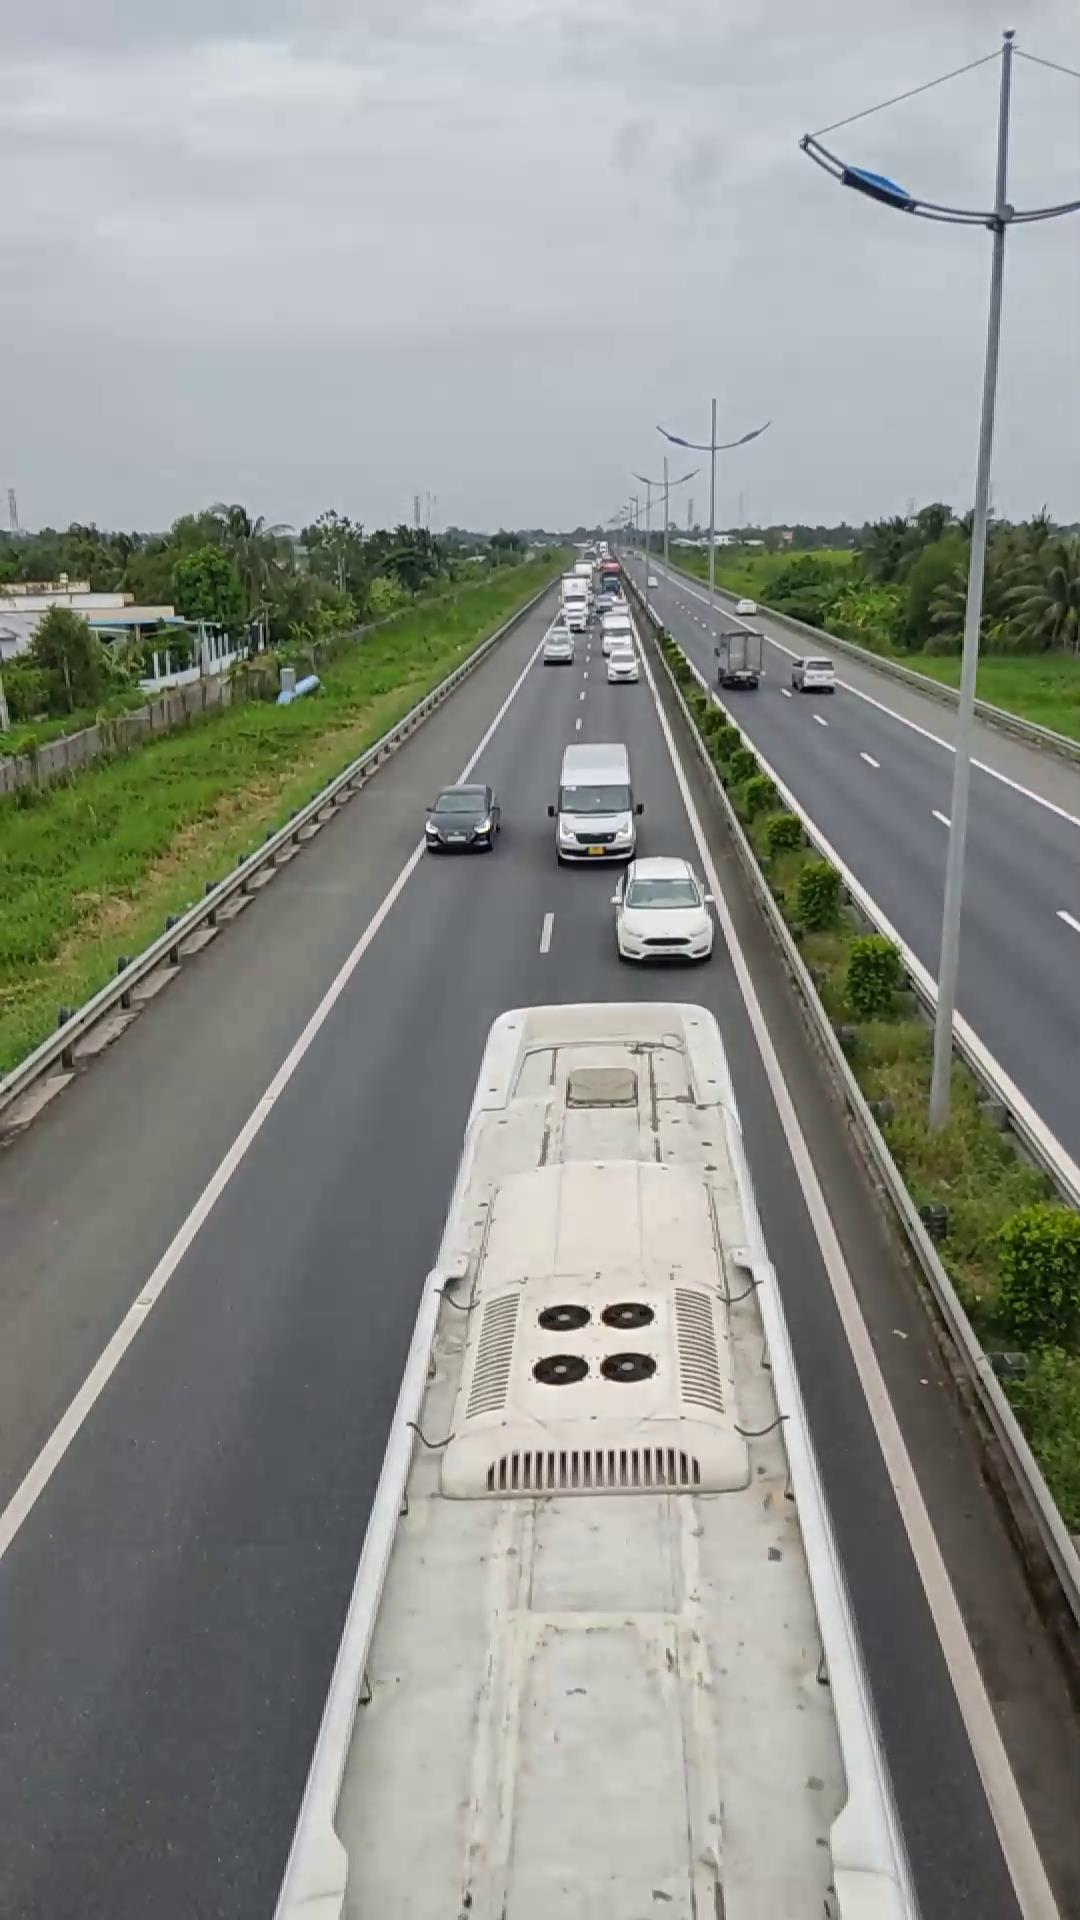bus: (276, 990, 898, 1916)
car: (547, 741, 642, 864), (610, 854, 715, 965), (422, 781, 503, 852)
